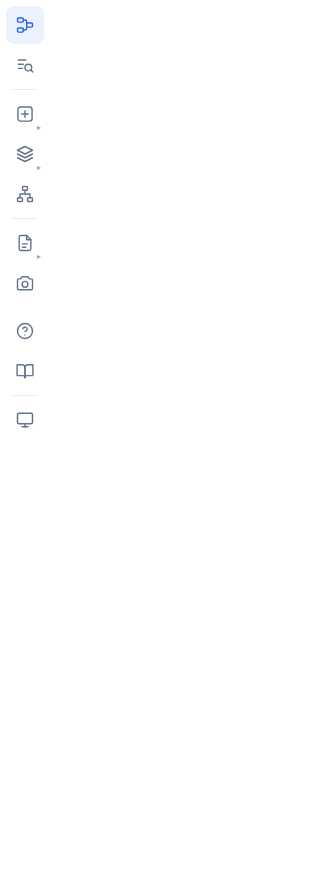
Test: PipelineRail › lists every Add Node group under a caption and adds the picked type
This screenshot has width=320, height=896.
Click the 1st button titled "Add Node": point(25, 114) [6, 95, 44, 133]
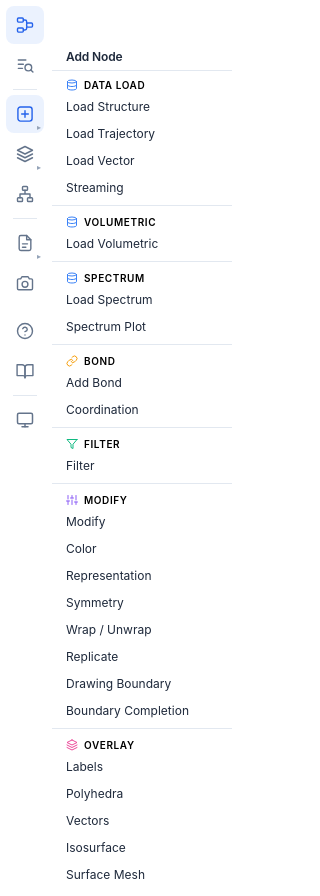
Result: the menu with test id "pipeline-editor-add-menu" shows "Data Load" at [84, 79, 145, 91]
Result: the menu with test id "pipeline-editor-add-menu" shows "Volumetric" at [84, 216, 156, 228]
Result: the menu with test id "pipeline-editor-add-menu" shows "Spectrum" at [84, 272, 145, 284]
Click the menu item "Replicate": point(142, 656) [52, 643, 232, 670]
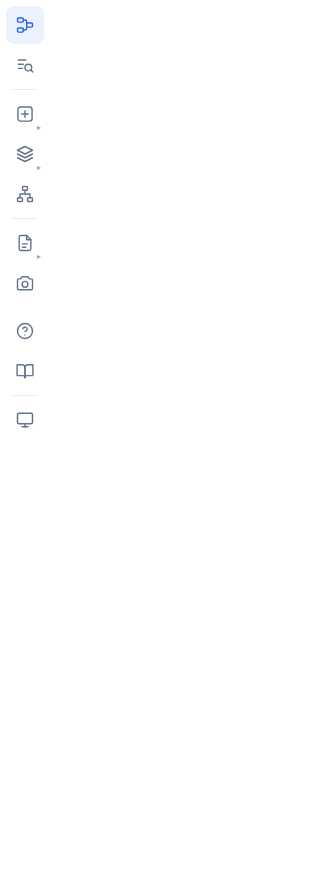
Result: the menu with test id "pipeline-editor-add-menu" is gone
